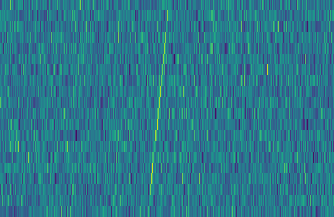signal: (142, 0, 173, 217)
